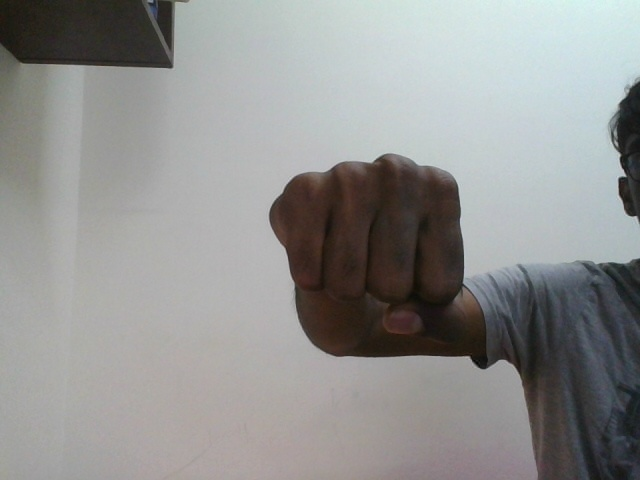Yes: (277, 152, 465, 345)
